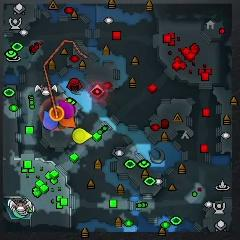Other: (49, 107, 64, 121)
p1: (42, 110, 58, 130)
p2: (13, 208, 25, 219)
p3: (59, 101, 76, 120)
p4: (73, 129, 92, 143)
p5: (60, 116, 76, 128)
